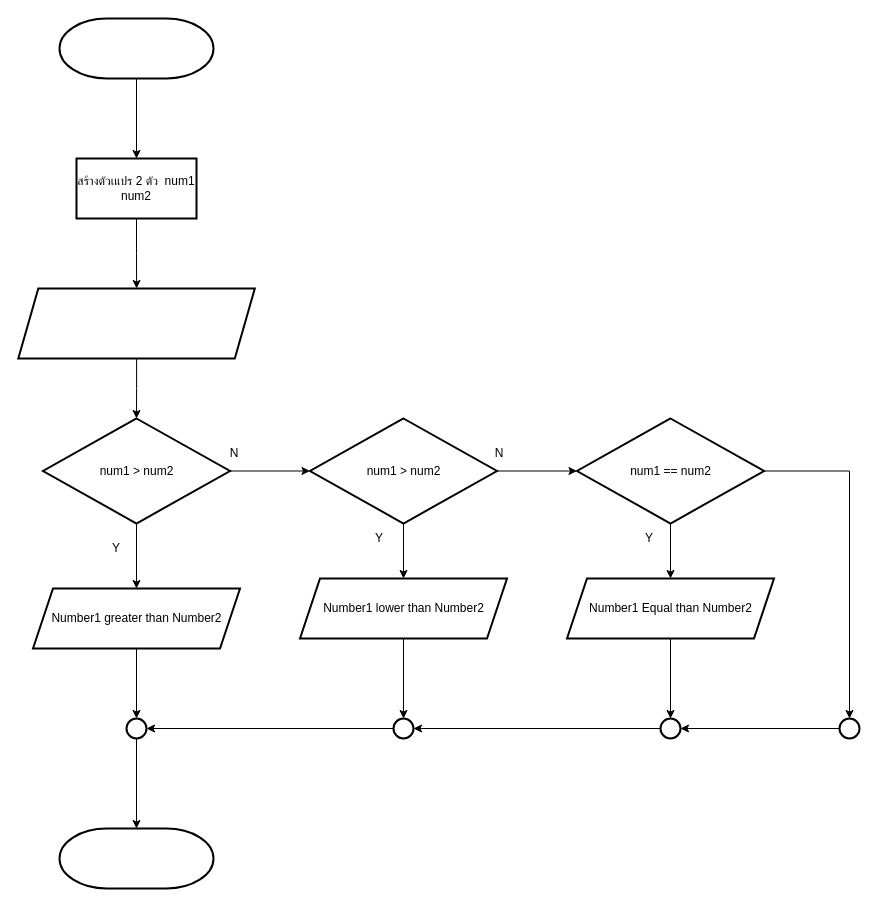
The diagram is 878 pixels wide and 906 high, and some of its shapes have lost their labels. The shapes that lost their labels are listed below. From the top down, each one's box as (x1, y1, x2, y2) in pixels, then its label:
(58, 17, 214, 79): เริ่ม
(17, 287, 255, 359): รับค่าจากผู้ใช้ใส่ในตัวแปร 2 ตัวที่สร้าง
(58, 827, 214, 889): จบ
